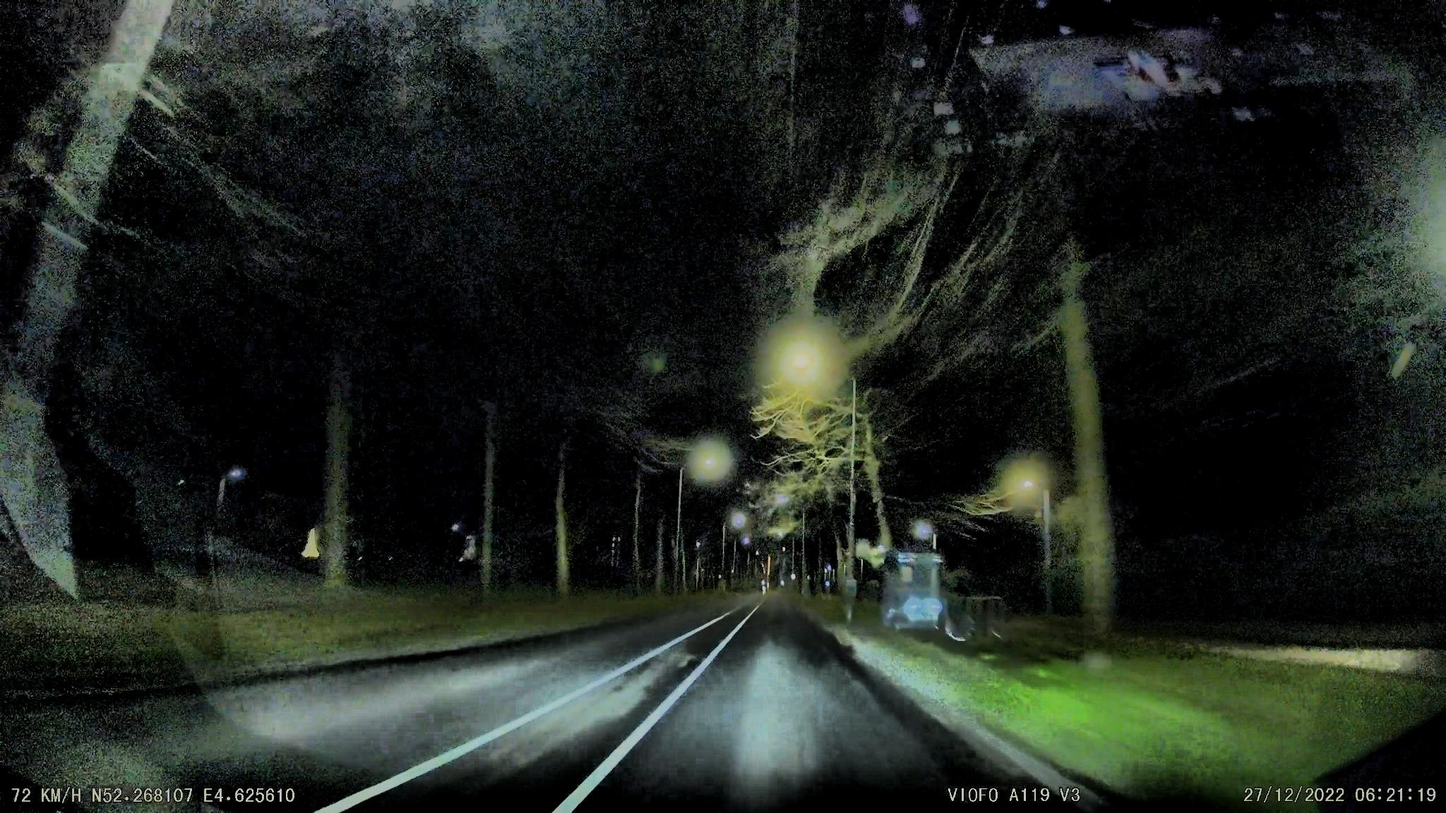Roads: (132, 599, 1148, 813)
